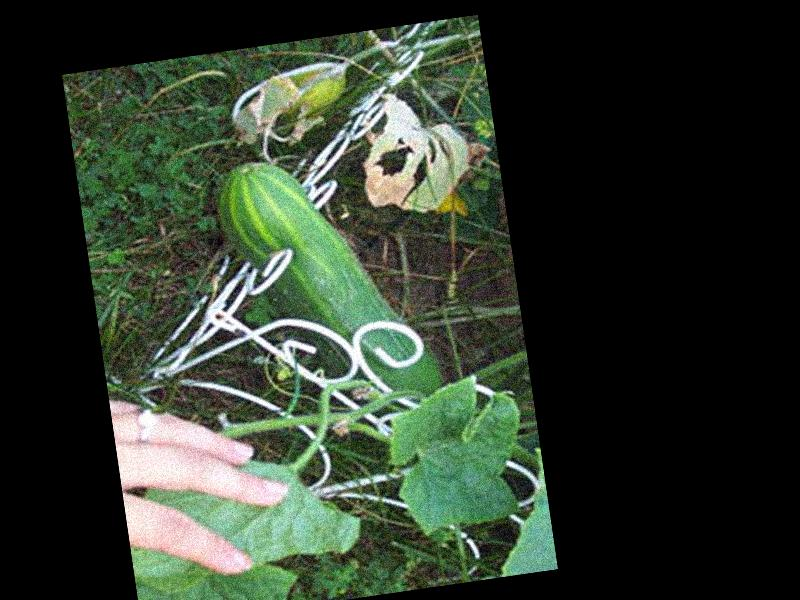Cucumber: (213, 140, 445, 425)
